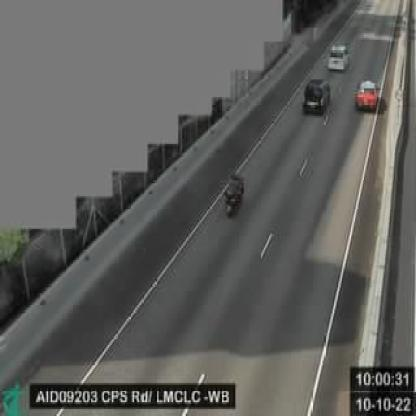Car: (302, 76, 332, 114), (354, 79, 378, 111), (329, 45, 351, 71)
